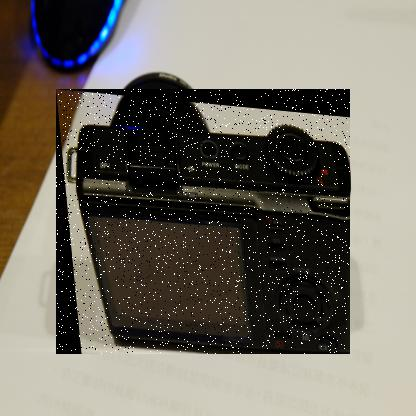Camera: (57, 90, 352, 356)
